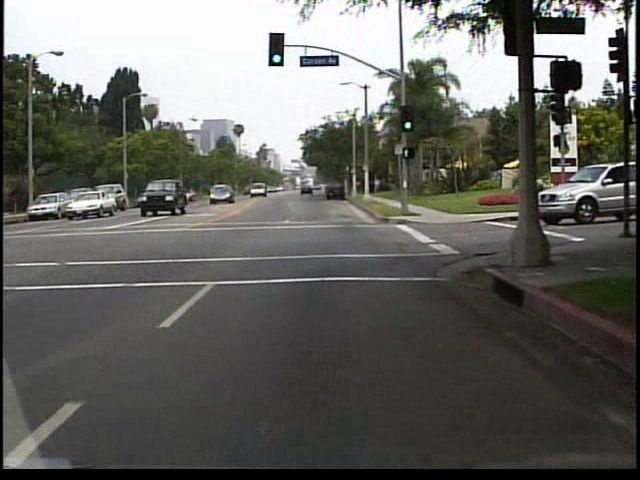person: (365, 175, 374, 198), (373, 174, 382, 194)
